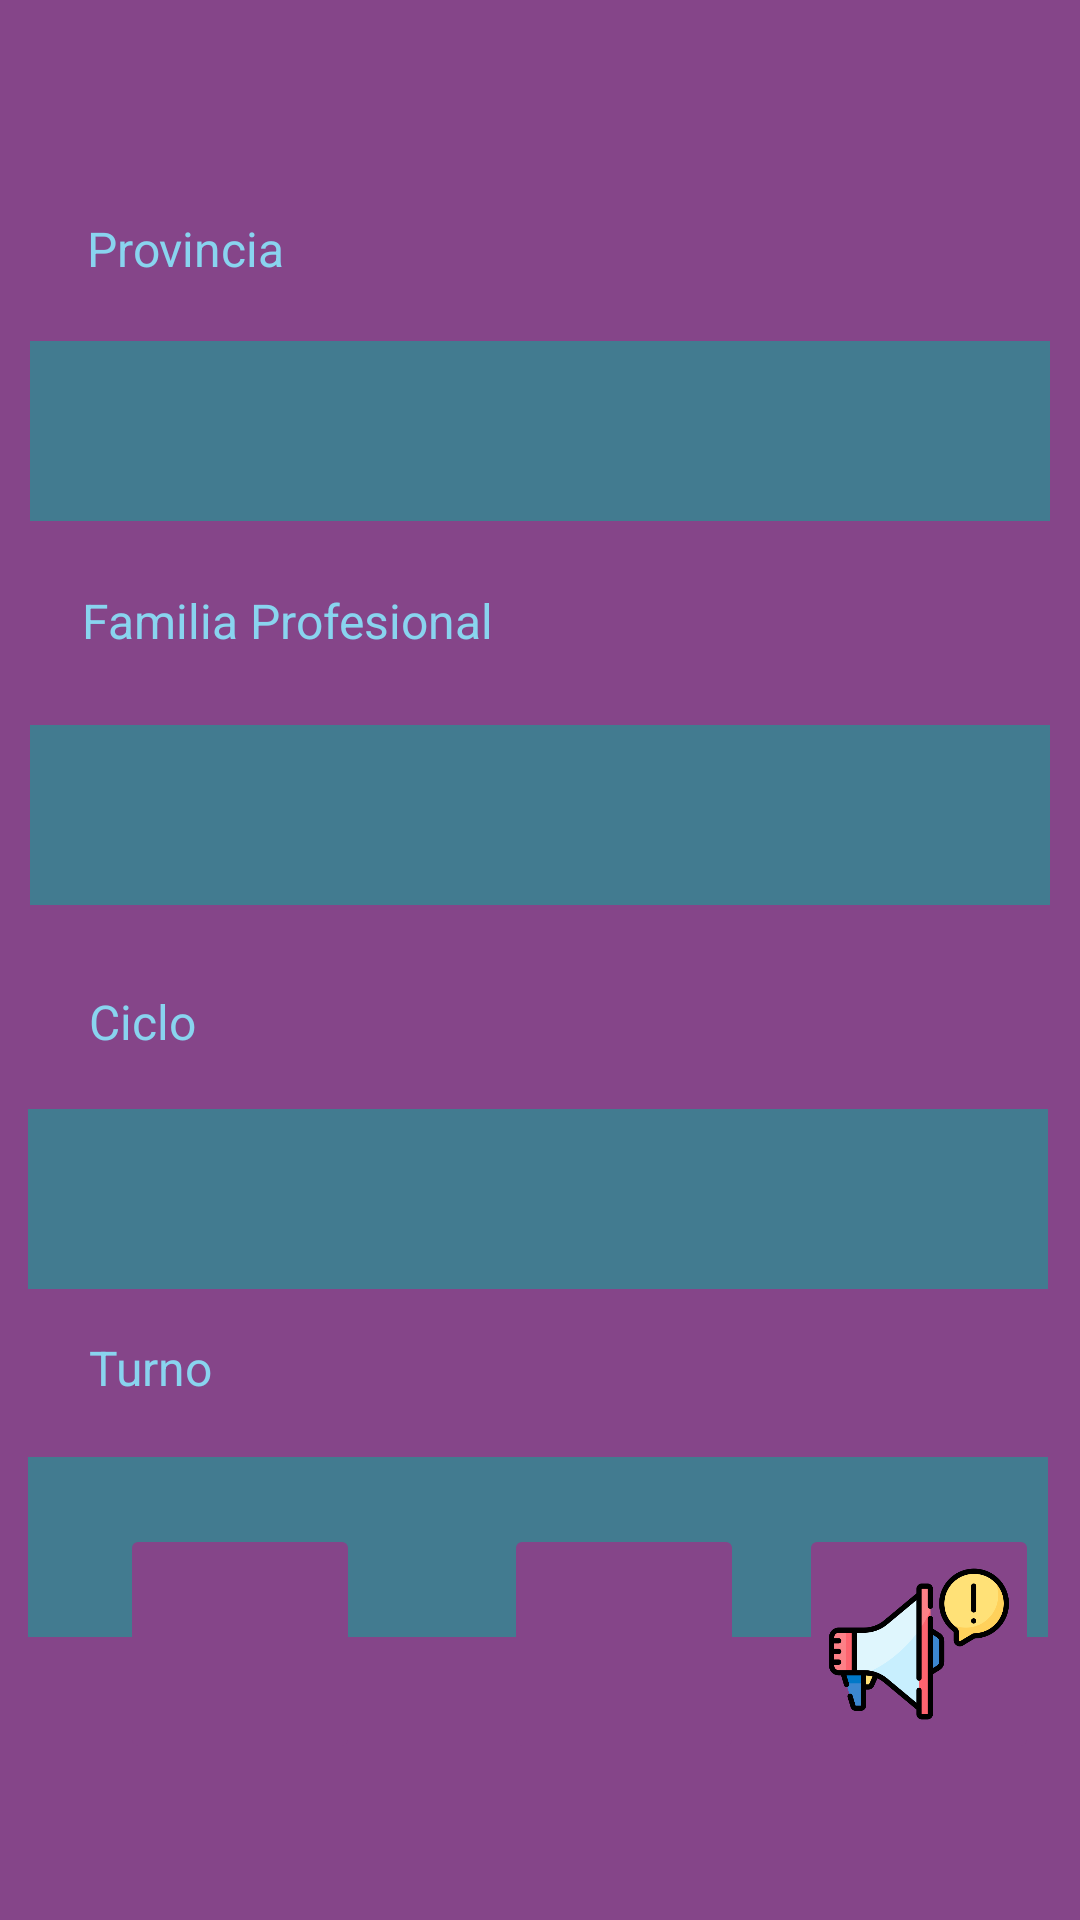

Point at icon controls on the screen. Image size 1080*1920, points as [x,y].
reporte: [919,1644]
